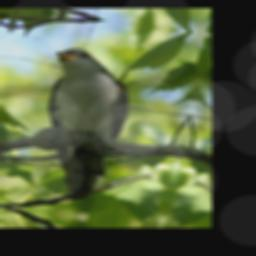Cuckoo: (19, 45, 145, 203)
